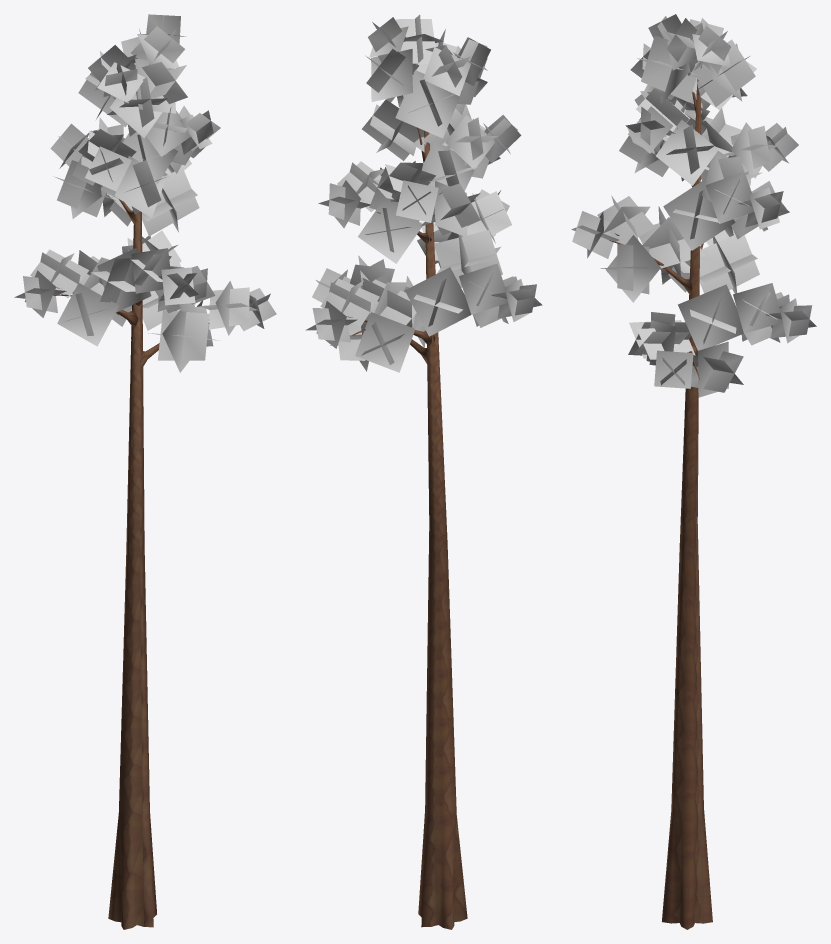
Rendered from SM_Tree_04.fbx.
3 views of the same model, side by side, from view 1: azimuth 30°, elevation 25°; view 2: azimuth 150°, elevation 25°; view 3: azimuth 270°, elevation 25° (orthographic). The views are drawn at different scales.
Parts seen in each view (by area): view 1: SM_Tree_04; view 2: SM_Tree_04; view 3: SM_Tree_04.
Boxes of the visible parts, x1,y1,x2,y2 form: SM_Tree_04: (14,14,276,929); SM_Tree_04: (305,14,542,929); SM_Tree_04: (571,14,816,929).
Size of the model in its own units: 471 by 1705 by 417.
